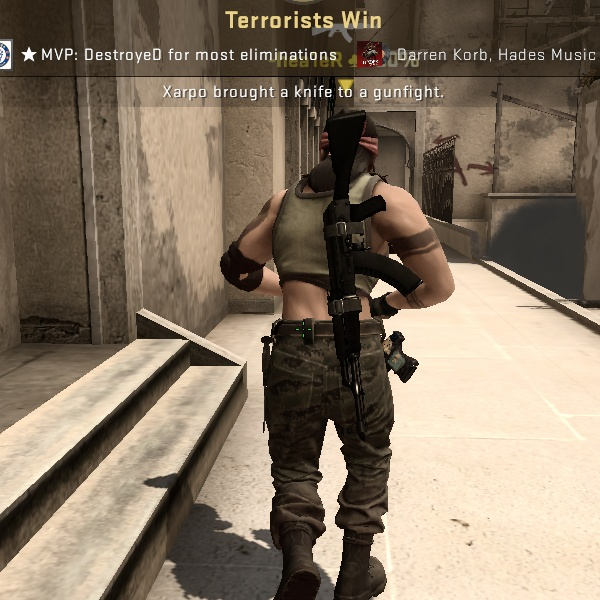t_body: (194, 102, 462, 591)
t_head: (302, 109, 392, 197)
